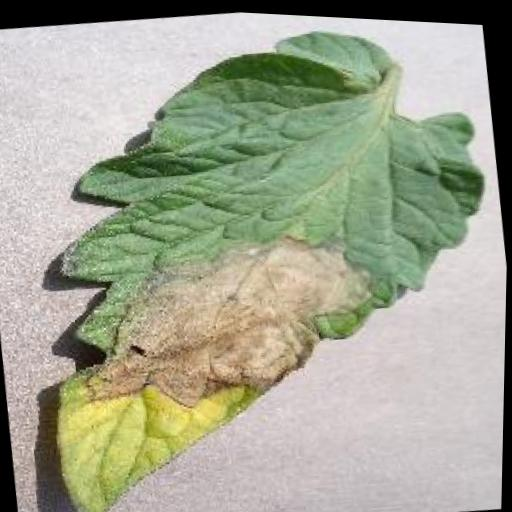Late Blight: (11, 1, 512, 512)
